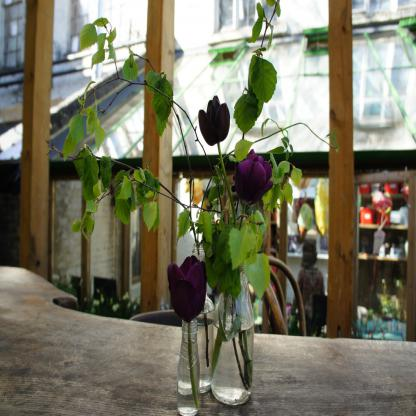vase: (212, 262, 254, 408), (176, 314, 202, 413), (191, 290, 214, 393)
